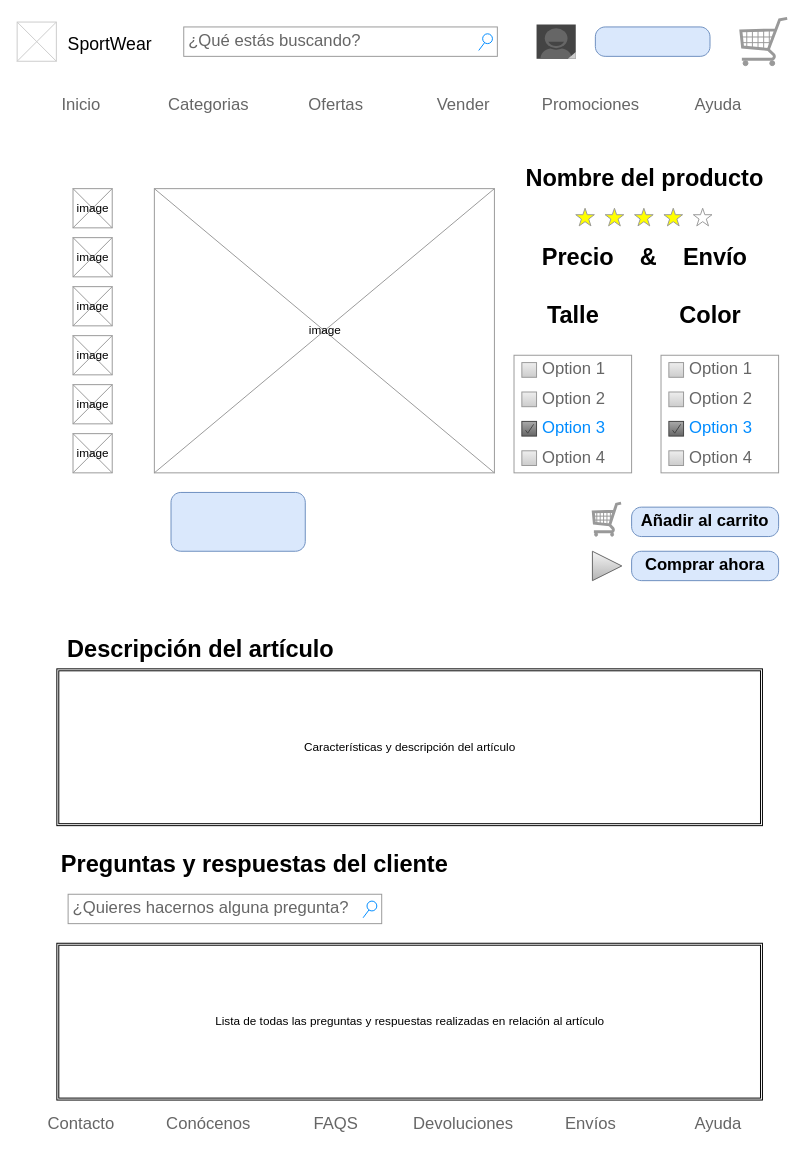
The diagram is 806 pixels wide and 1156 high, and some of its shapes have lost their labels. Each missing label, with the box of its shape:
Login: (594, 26, 710, 56)
Logo: (16, 21, 56, 61)
Más productos del vendedor: (170, 491, 305, 551)
